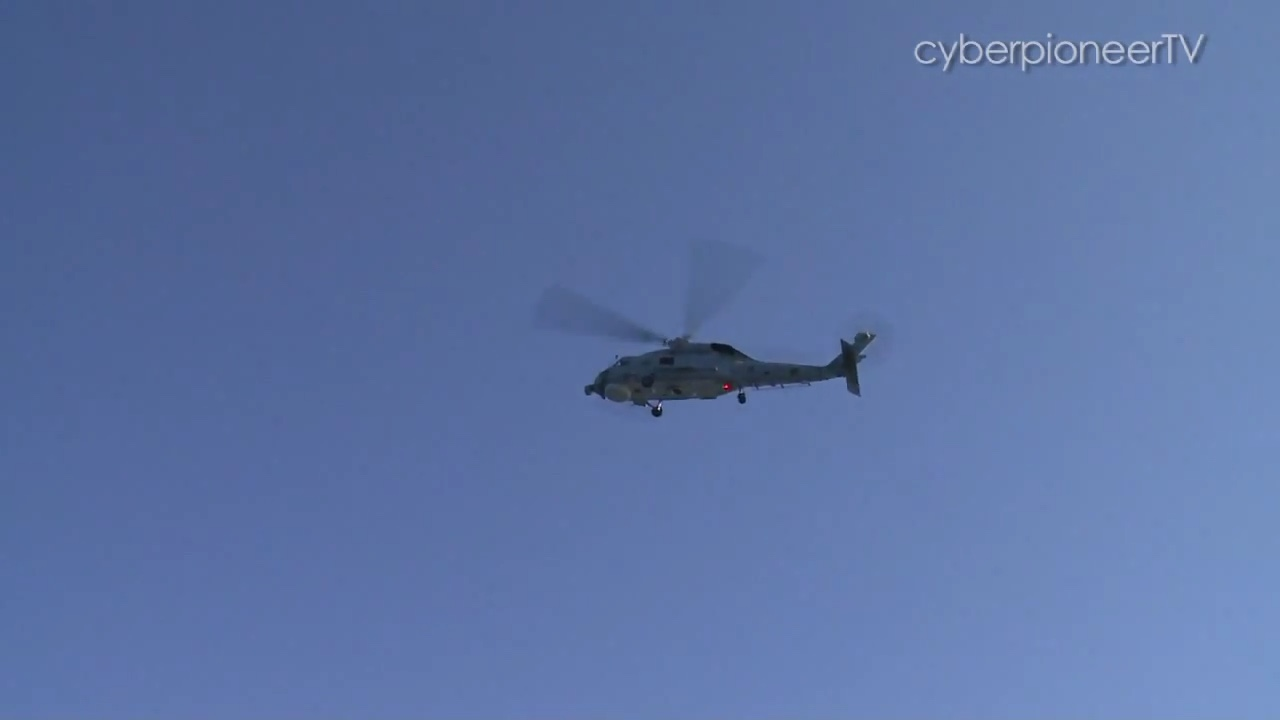seahawk: (527, 243, 896, 419)
